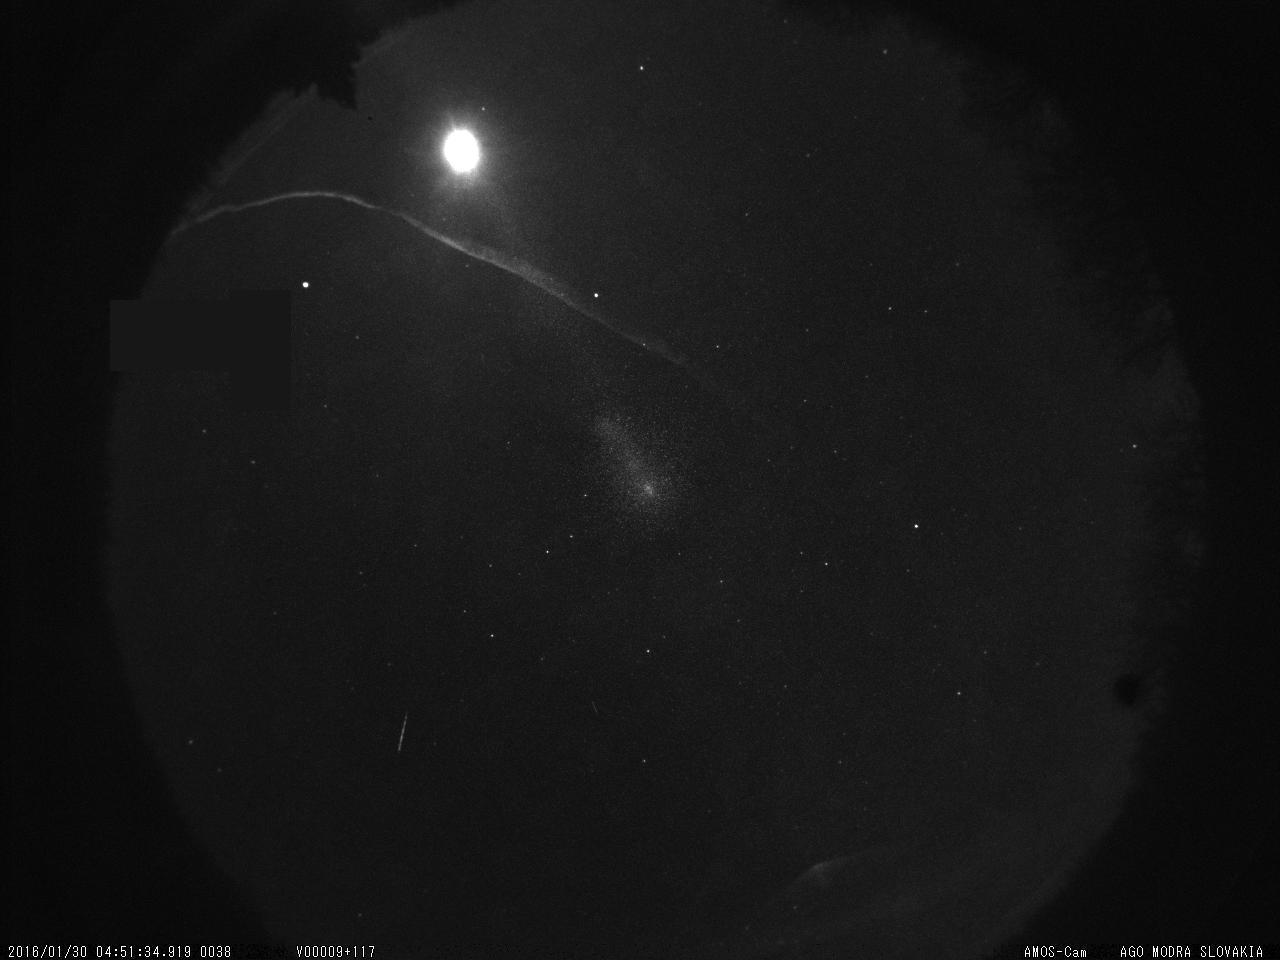meteor: (395, 709, 414, 758)
